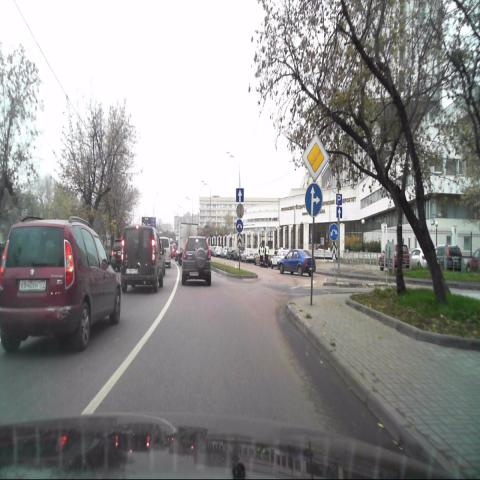4_1_4: (304, 184, 323, 218)
